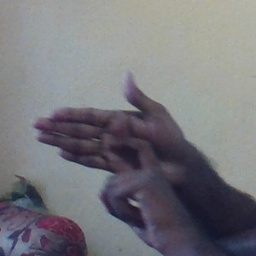R: (34, 70, 178, 204)
